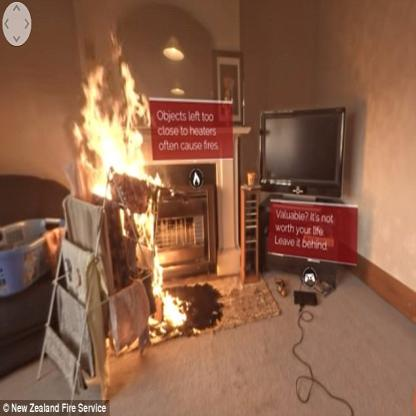fire: (74, 56, 165, 208), (123, 196, 191, 335)
